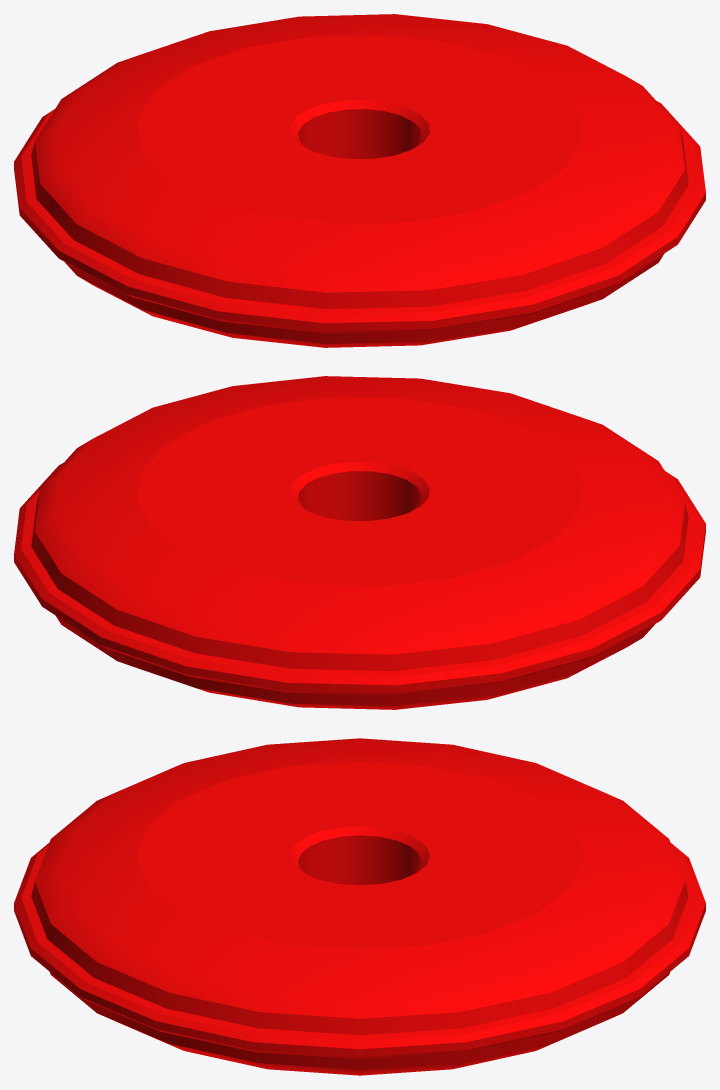
The model's file is Ring 4.obj.
The picture shows the model from 3 angles, top to bottom: view 1: azimuth 30°, elevation 25°; view 2: azimuth 150°, elevation 25°; view 3: azimuth 270°, elevation 25°; orthographic projection.
Parts seen in each view (by area): view 1: polySurface14 polySurface6; view 2: polySurface14 polySurface6; view 3: polySurface14 polySurface6.
Part boxes in pixels (left/top/right/bottom): polySurface14 polySurface6: left=14, top=14, right=705, bottom=347; polySurface14 polySurface6: left=14, top=376, right=705, bottom=709; polySurface14 polySurface6: left=14, top=738, right=705, bottom=1075.
Size of the model in its own units: 3.67 by 0.5981 by 3.67.
